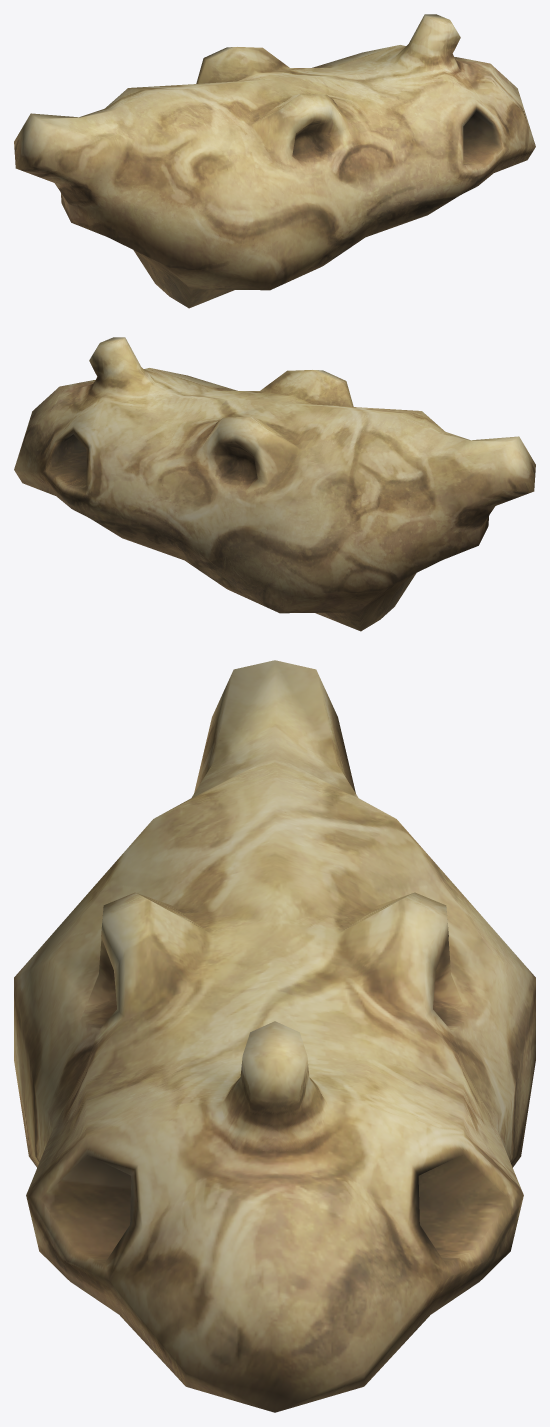
File: skull.FBX
3 views of the same model, one above another, from view 1: azimuth 30°, elevation 25°; view 2: azimuth 150°, elevation 25°; view 3: azimuth 270°, elevation 25° (orthographic). The views are drawn at different scales.
Parts seen in each view (by area): view 1: Object004; view 2: Object004; view 3: Object004.
Part boxes in pixels (x1,y1,x2,y2): Object004: (14, 14, 535, 308); Object004: (14, 337, 535, 631); Object004: (14, 660, 535, 1412).
Size of the model in its own units: 4.58 by 1.85 by 2.03.
